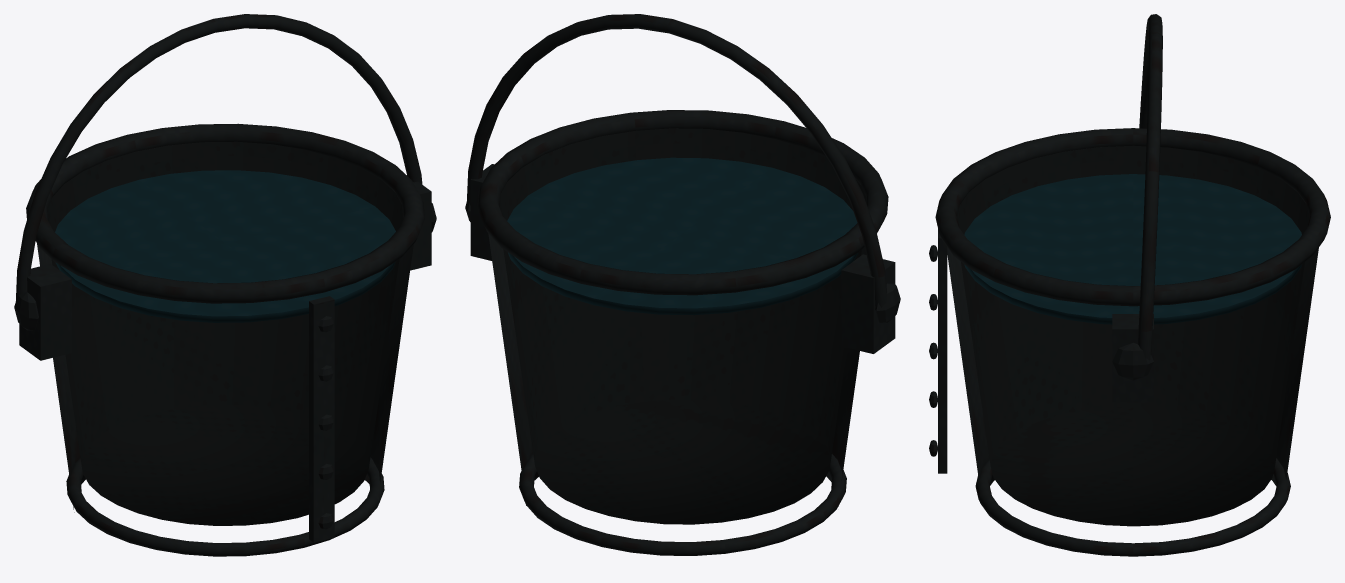
Rendered from smithy_quench_bucket.glb.
3 renders of one model, left to right at view 1: azimuth 30°, elevation 25°; view 2: azimuth 150°, elevation 25°; view 3: azimuth 270°, elevation 25°, orthographic. The views are drawn at different scales.
Visible parts, largest first — view 1: HollowRivetedVessel, QuenchWater, RolledTopRim, RivetedFittings, ForgedBailHandle, ForgedBaseBand; view 2: HollowRivetedVessel, QuenchWater, RolledTopRim, ForgedBailHandle, ForgedBaseBand, RivetedFittings; view 3: HollowRivetedVessel, QuenchWater, RolledTopRim, RivetedFittings, ForgedBaseBand, ForgedBailHandle.
Boxes of the visible parts, x1,y1,x2,y2 form: HollowRivetedVessel: [37, 141, 413, 525]; QuenchWater: [55, 170, 395, 322]; RolledTopRim: [26, 123, 424, 303]; RivetedFittings: [14, 181, 436, 542]; ForgedBailHandle: [15, 14, 422, 303]; ForgedBaseBand: [66, 457, 384, 556]; HollowRivetedVessel: [488, 128, 866, 524]; QuenchWater: [507, 157, 857, 315]; RolledTopRim: [477, 110, 888, 295]; ForgedBailHandle: [467, 14, 886, 307]; ForgedBaseBand: [519, 454, 846, 555]; RivetedFittings: [465, 164, 900, 353]; HollowRivetedVessel: [947, 145, 1318, 526]; QuenchWater: [964, 174, 1301, 324]; RolledTopRim: [935, 128, 1330, 306]; RivetedFittings: [929, 229, 1153, 473]; ForgedBaseBand: [975, 458, 1290, 556]; ForgedBailHandle: [1138, 14, 1162, 360].
Size of the model in its own units: 0.7888 by 0.8717 by 0.6728.
3 materials, 3 textured.
